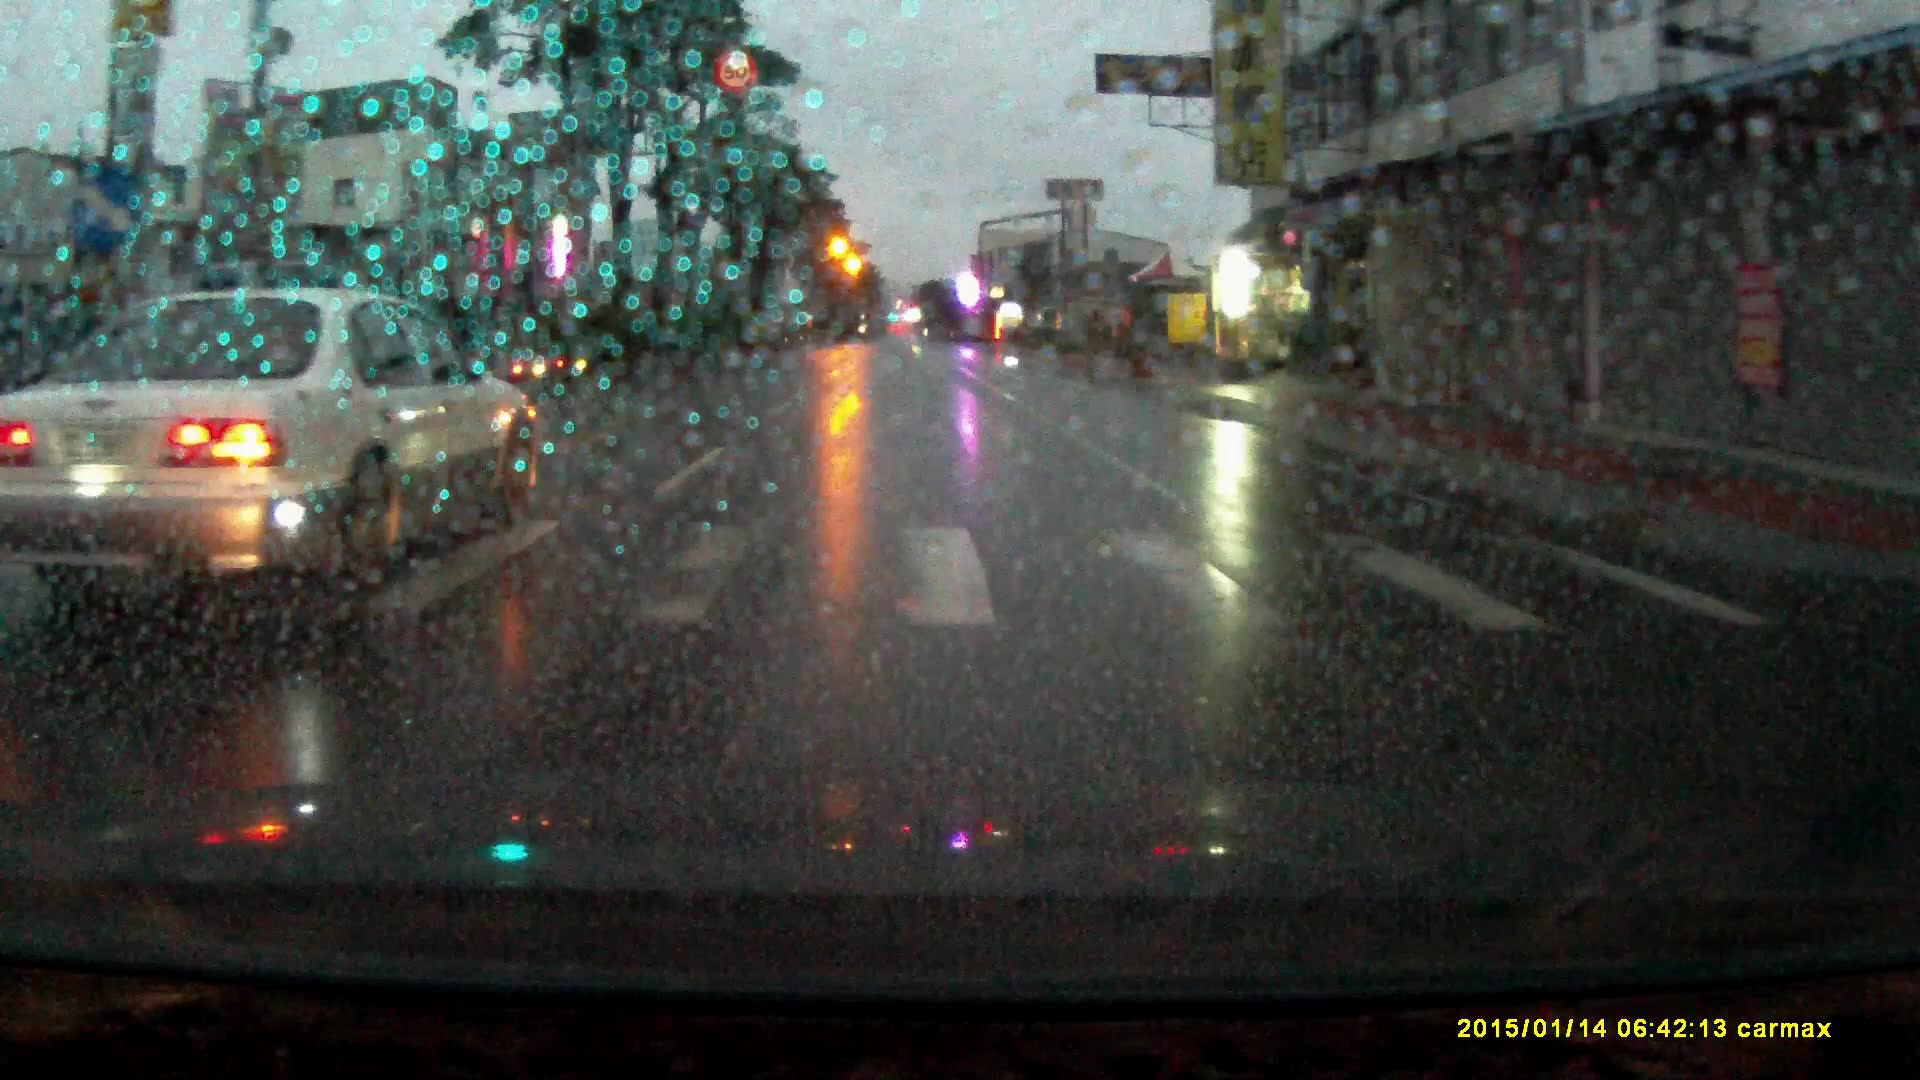vehicle: (3, 281, 533, 615)
